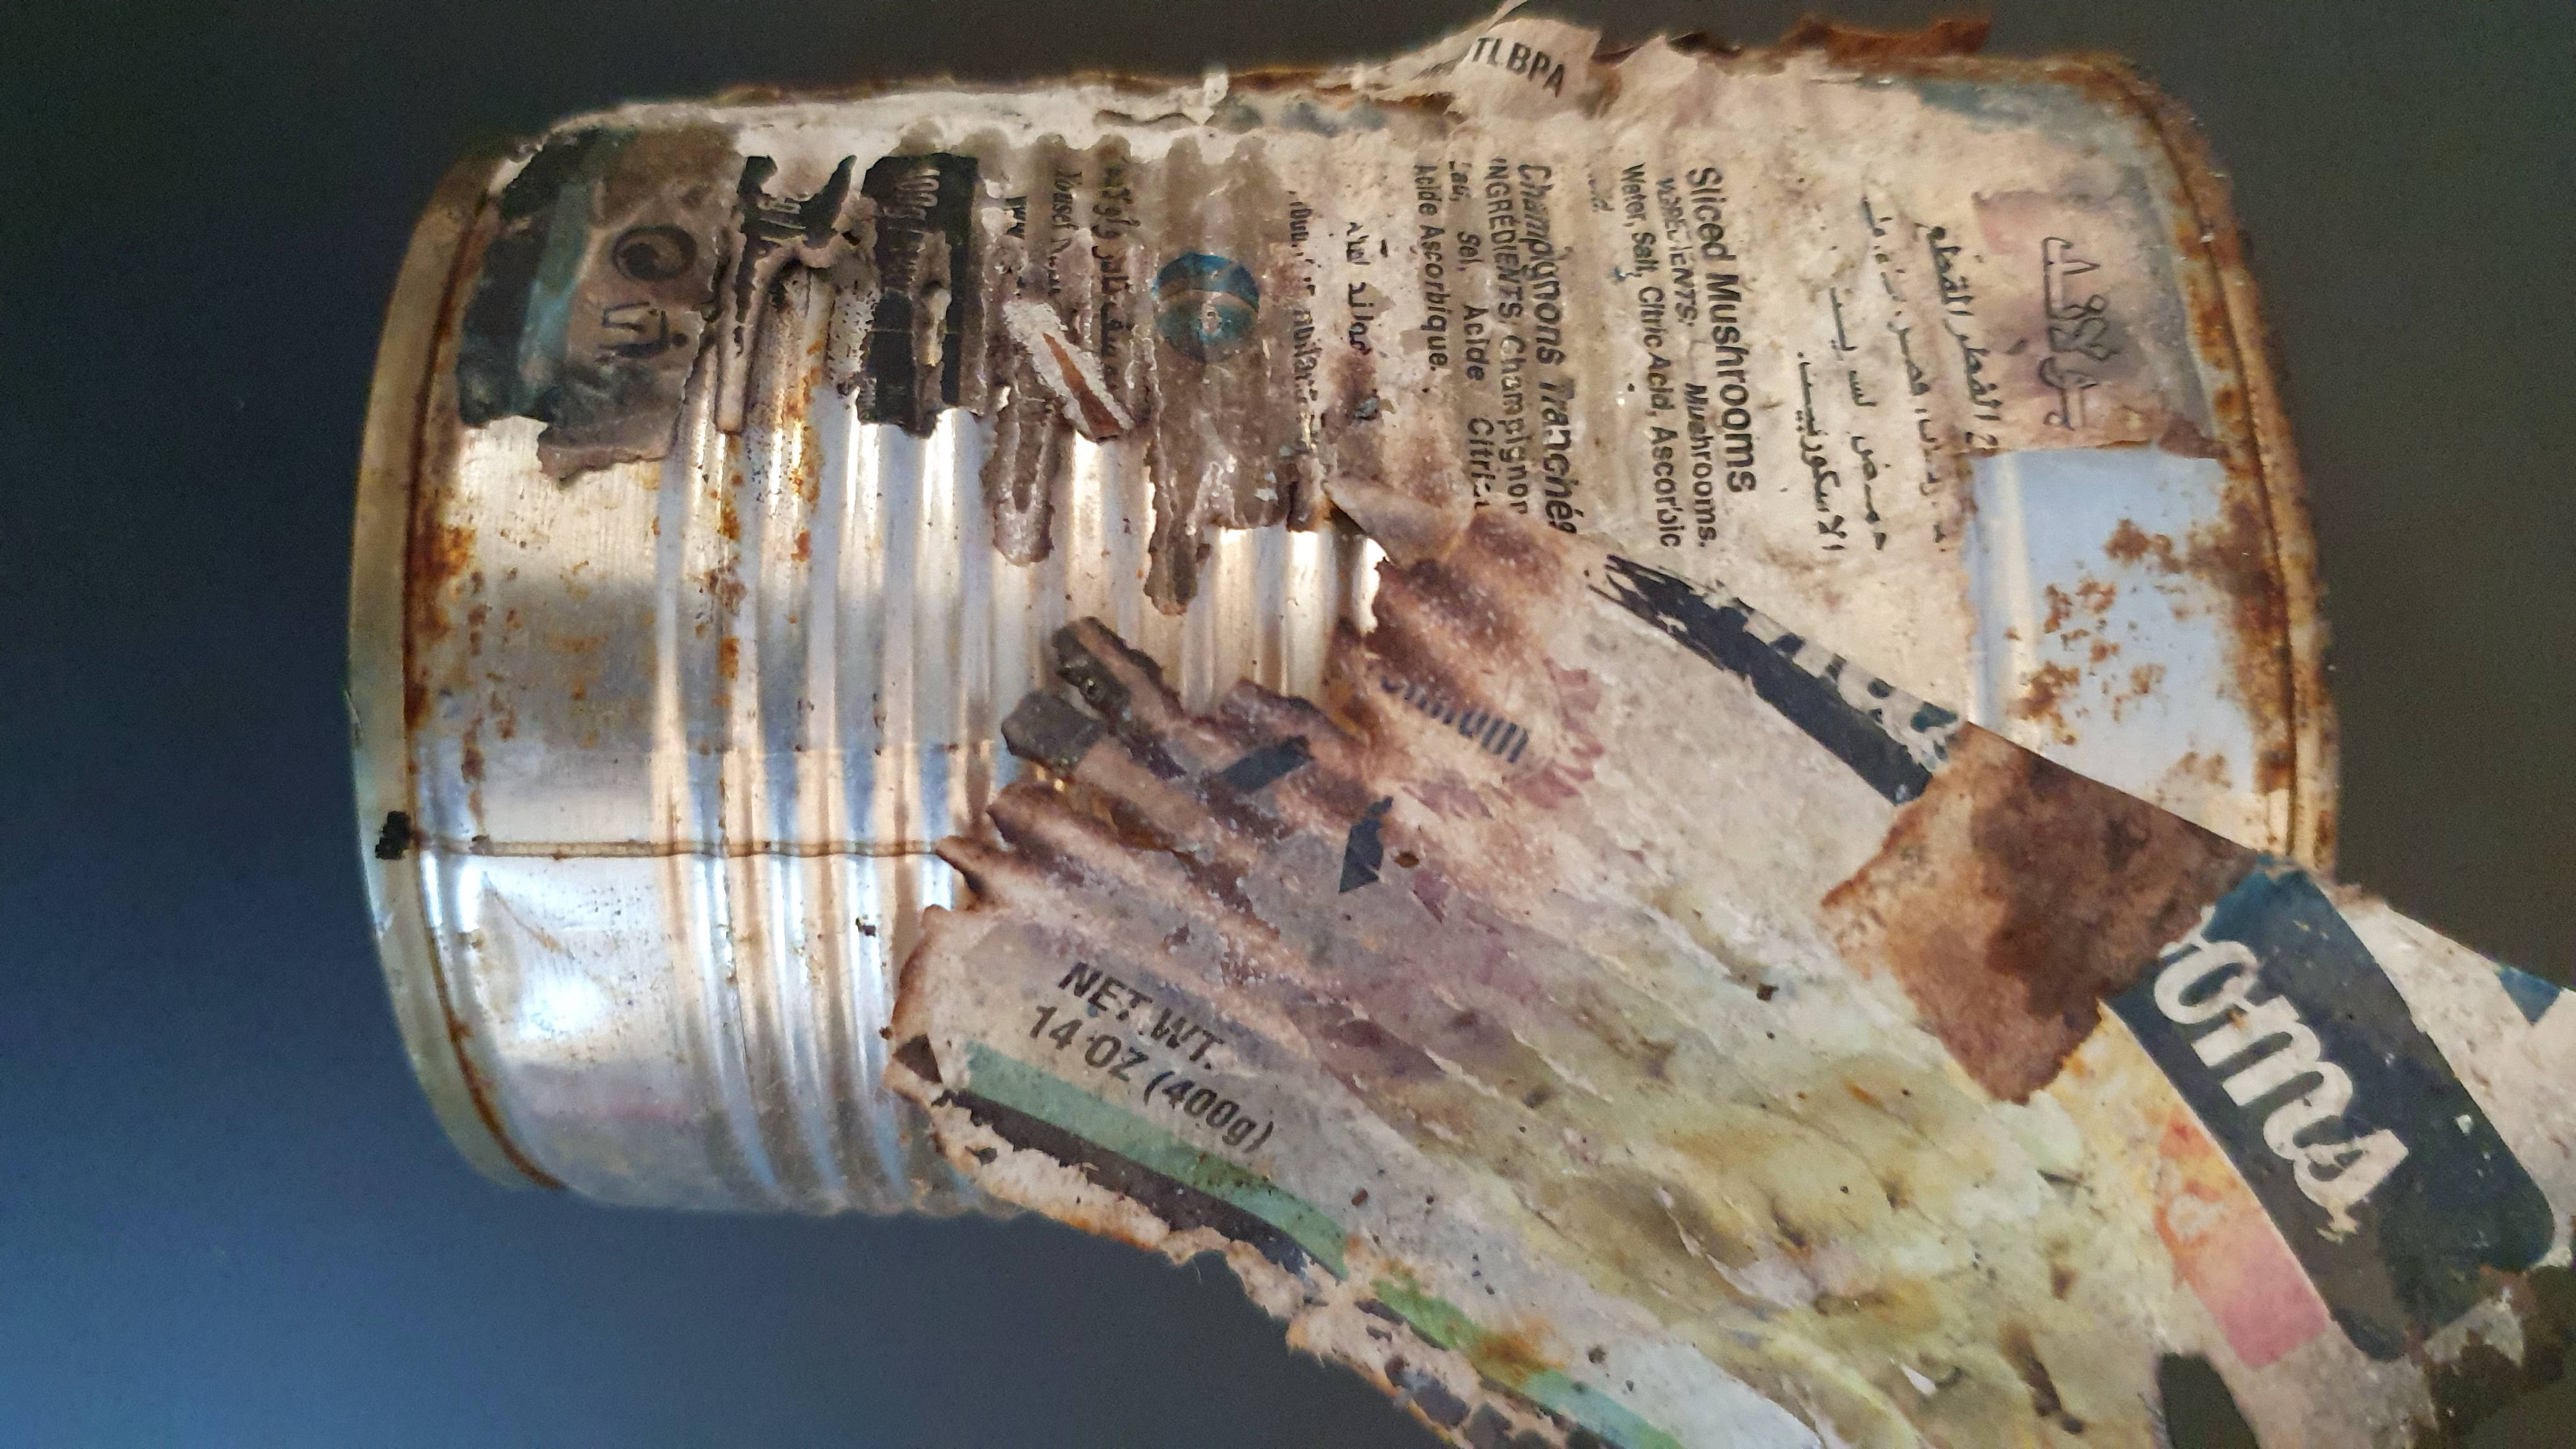metal: (315, 5, 2576, 1449)
